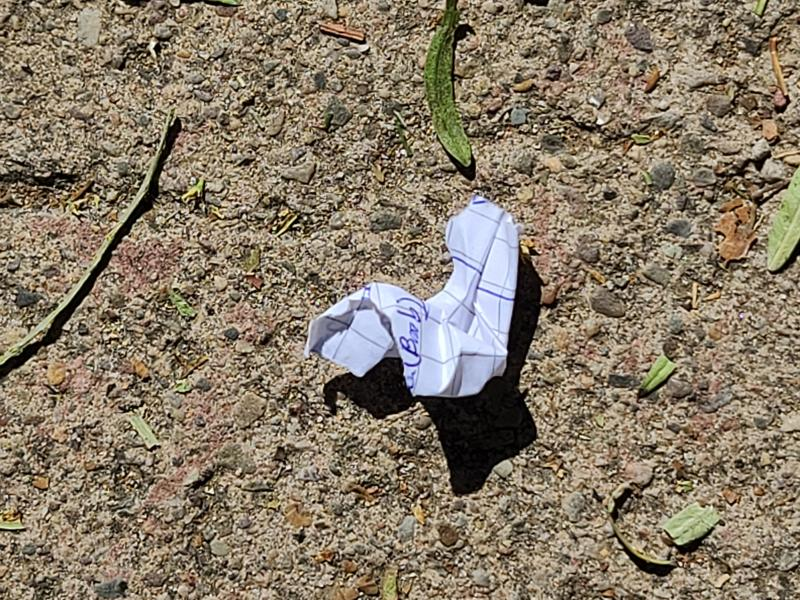papel: (305, 194, 519, 401)
